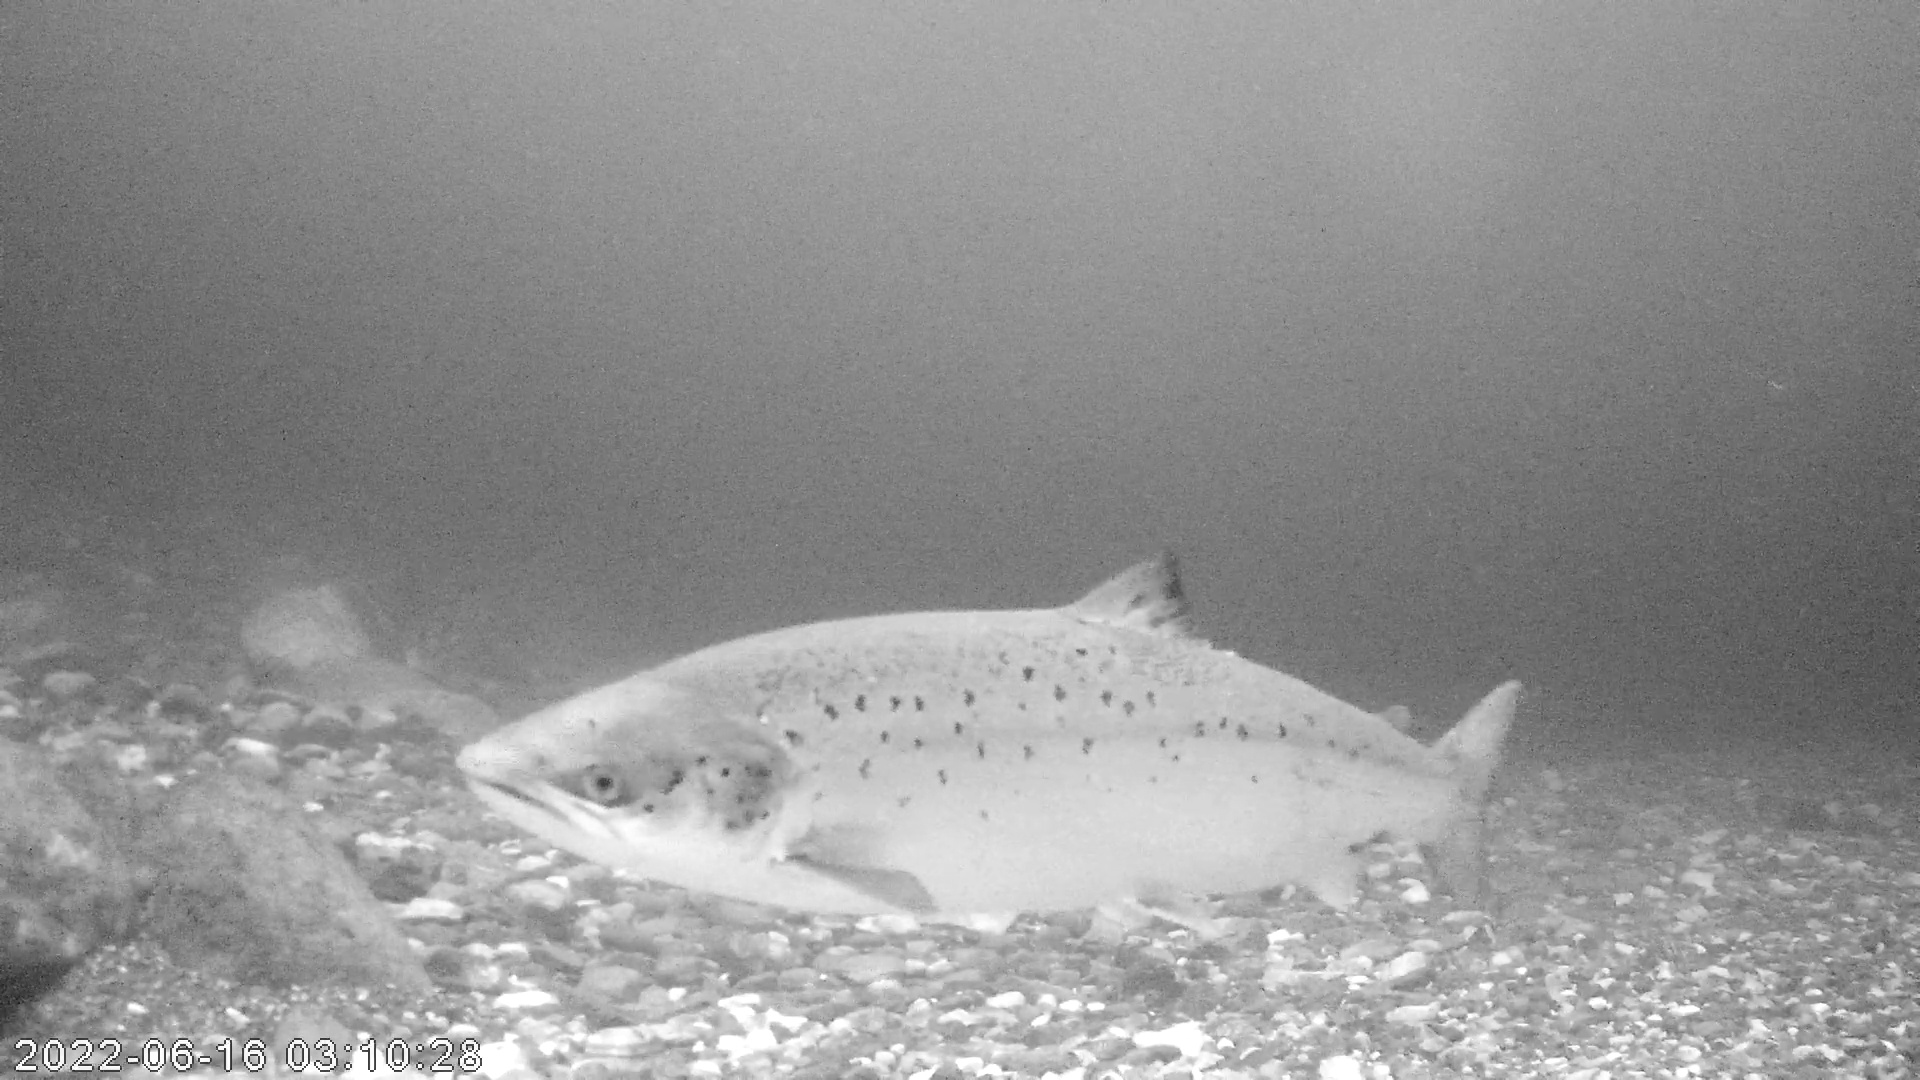salmon: (458, 550, 1527, 928)
